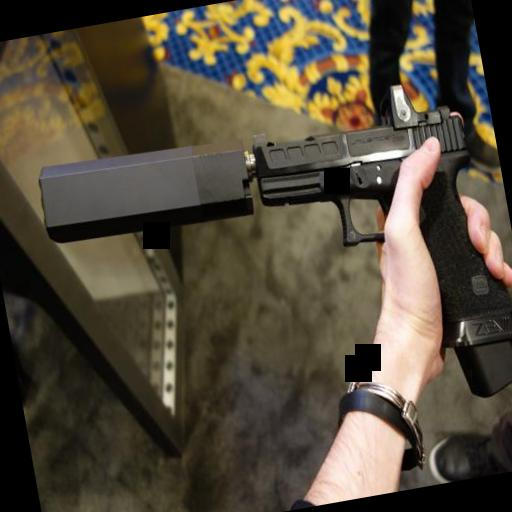Handgun: (240, 67, 512, 428)
